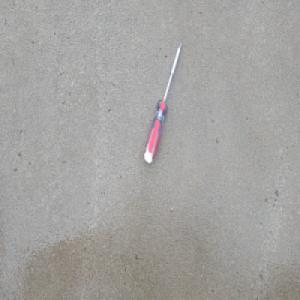Screwdriver: (143, 39, 183, 165)
